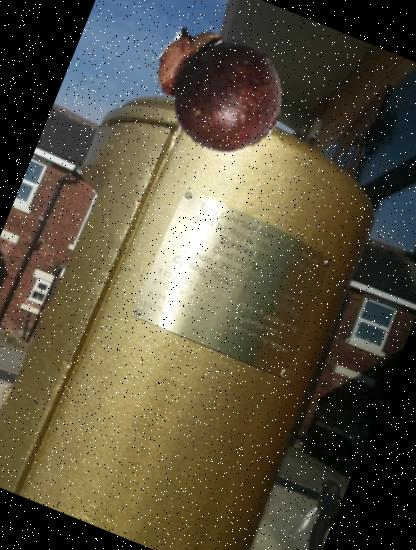Mangostan: (129, 1, 306, 178)
